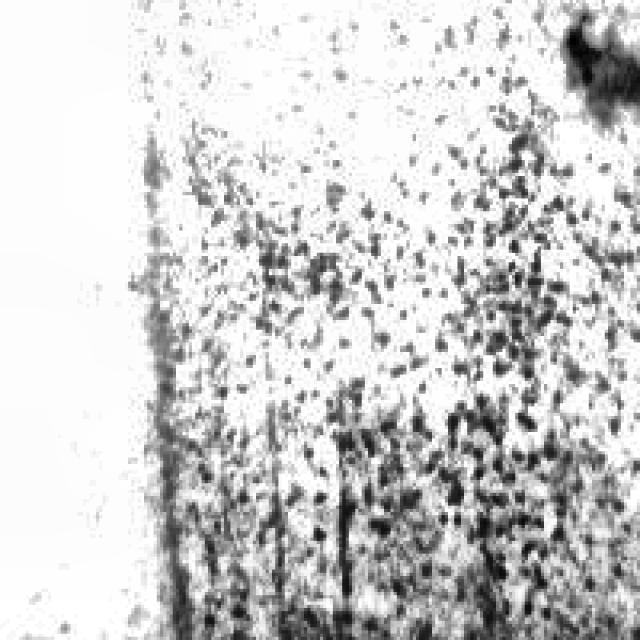Rolled_in_Scale: (141, 93, 624, 624)
Scratches: (550, 10, 637, 119)
